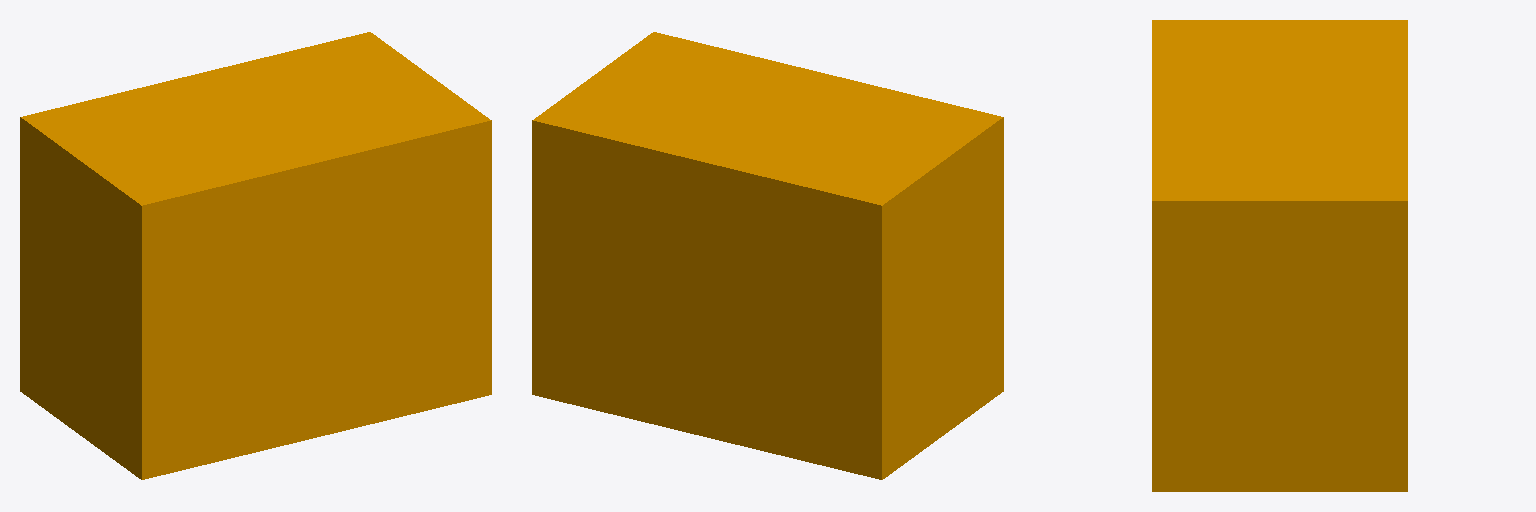
robot.urdf — lab_table:
<?xml version="1.0"?>
<robot name="lab_table">
  <link name="table">
    <visual><geometry><box size="1.0 0.6 0.75"/></geometry></visual>
  </link>
</robot>

--- What the picture shows (computed from the rendered views, not written in the file) ---
Views: 3 orthographic renders of the robot side by side, from view 1: azimuth 30°, elevation 25°; view 2: azimuth 150°, elevation 25°; view 3: azimuth 270°, elevation 25°.
Model lab_table with 1 links and 0 joints (none), rooted at table, posed all joints at 0.
Links seen in each view (by area): view 1: table; view 2: table; view 3: table.
Boxes of the visible links, bbox=[...] form: table: bbox=[20, 32, 491, 479]; table: bbox=[532, 32, 1003, 479]; table: bbox=[1152, 20, 1407, 491].
Bounding box of the posed robot: 1 × 0.6 × 0.75 m (x, y, z).
Geometry: primitives only (box / cylinder / sphere), no mesh files.
